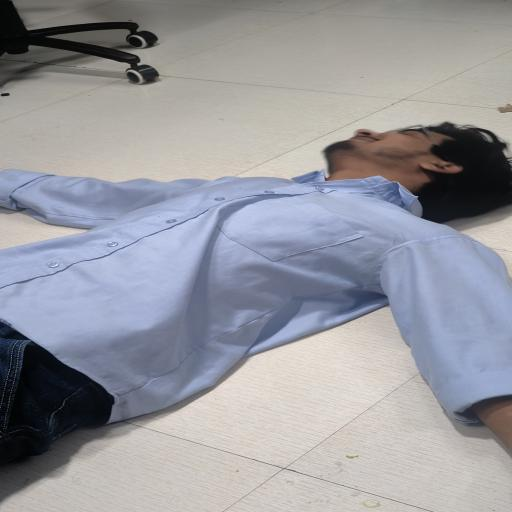survivor: (0, 122, 512, 465)
